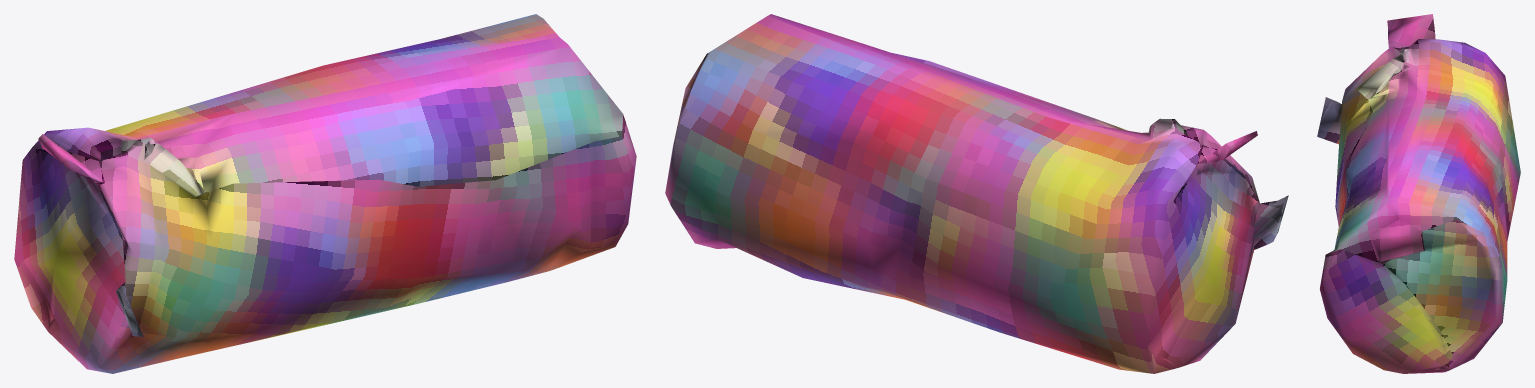
File: Pinwheel_Pencil_Case-low.glb
3 renders of one model, left to right at view 1: azimuth 30°, elevation 25°; view 2: azimuth 150°, elevation 25°; view 3: azimuth 270°, elevation 25°, orthographic. The views are drawn at different scales.
Visible parts, largest first — view 1: Pinwheel_Pencil_Case; view 2: Pinwheel_Pencil_Case; view 3: Pinwheel_Pencil_Case.
Part boxes in pixels (x1,y1,x2,y2): Pinwheel_Pencil_Case: [14, 14, 636, 373]; Pinwheel_Pencil_Case: [665, 14, 1288, 373]; Pinwheel_Pencil_Case: [1317, 14, 1520, 373].
Size of the model in its own units: 0.2158 by 0.0901 by 0.0935.
Materials: 1 (1 with a texture image).
